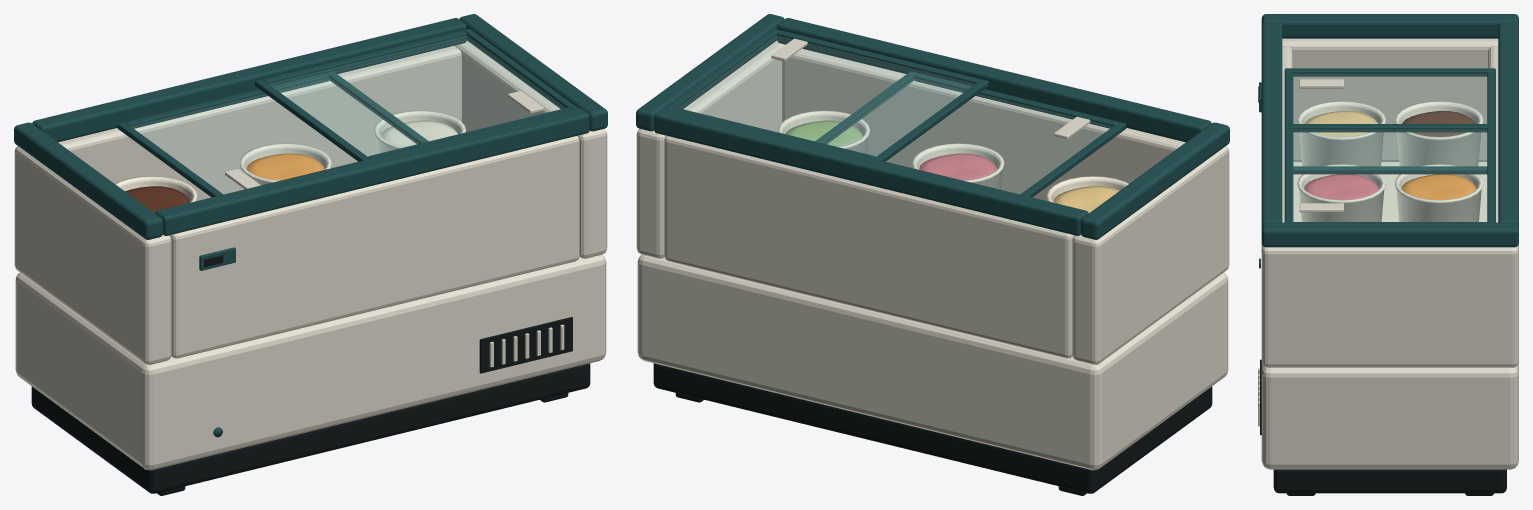
3 renders of one model, left to right at view 1: azimuth 30°, elevation 25°; view 2: azimuth 150°, elevation 25°; view 3: azimuth 270°, elevation 25°, orthographic. The views are drawn at different scales.
Visible parts, largest first — view 1: Cabinet_Geometry, Lid_Right_Geometry, Lid_Left_Geometry, Contents_Geometry; view 2: Cabinet_Geometry, Lid_Right_Geometry, Lid_Left_Geometry, Contents_Geometry; view 3: Cabinet_Geometry, Lid_Right_Geometry, Contents_Geometry, Lid_Left_Geometry.
Boxes of the visible parts, x1,y1,x2,y2 form: Cabinet_Geometry: [14, 14, 607, 495]; Lid_Right_Geometry: [255, 28, 577, 161]; Lid_Left_Geometry: [117, 71, 428, 197]; Contents_Geometry: [115, 110, 465, 213]; Cabinet_Geometry: [636, 14, 1229, 495]; Lid_Right_Geometry: [666, 28, 988, 161]; Lid_Left_Geometry: [815, 71, 1126, 197]; Contents_Geometry: [778, 110, 1128, 213]; Cabinet_Geometry: [1258, 14, 1518, 495]; Lid_Right_Geometry: [1284, 124, 1495, 222]; Contents_Geometry: [1297, 101, 1483, 221]; Lid_Left_Geometry: [1284, 68, 1495, 174].
Bounding box in the file's own units: 1.5 × 0.9 × 0.761.
